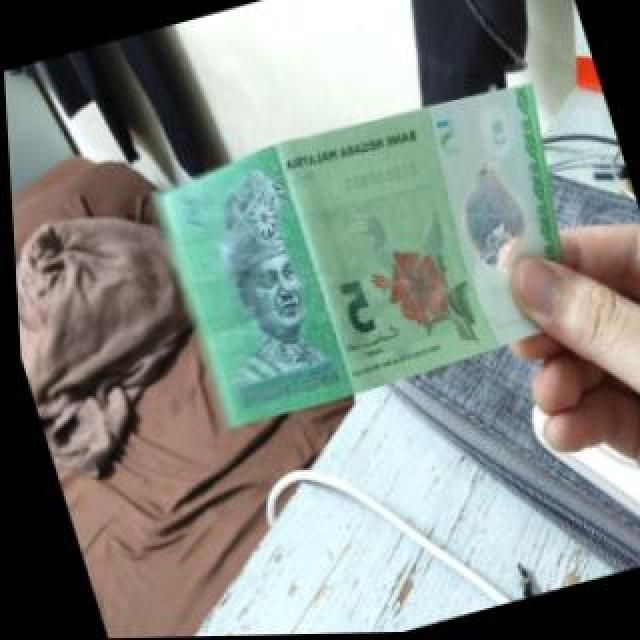5 Ringgit: (126, 78, 600, 436)
